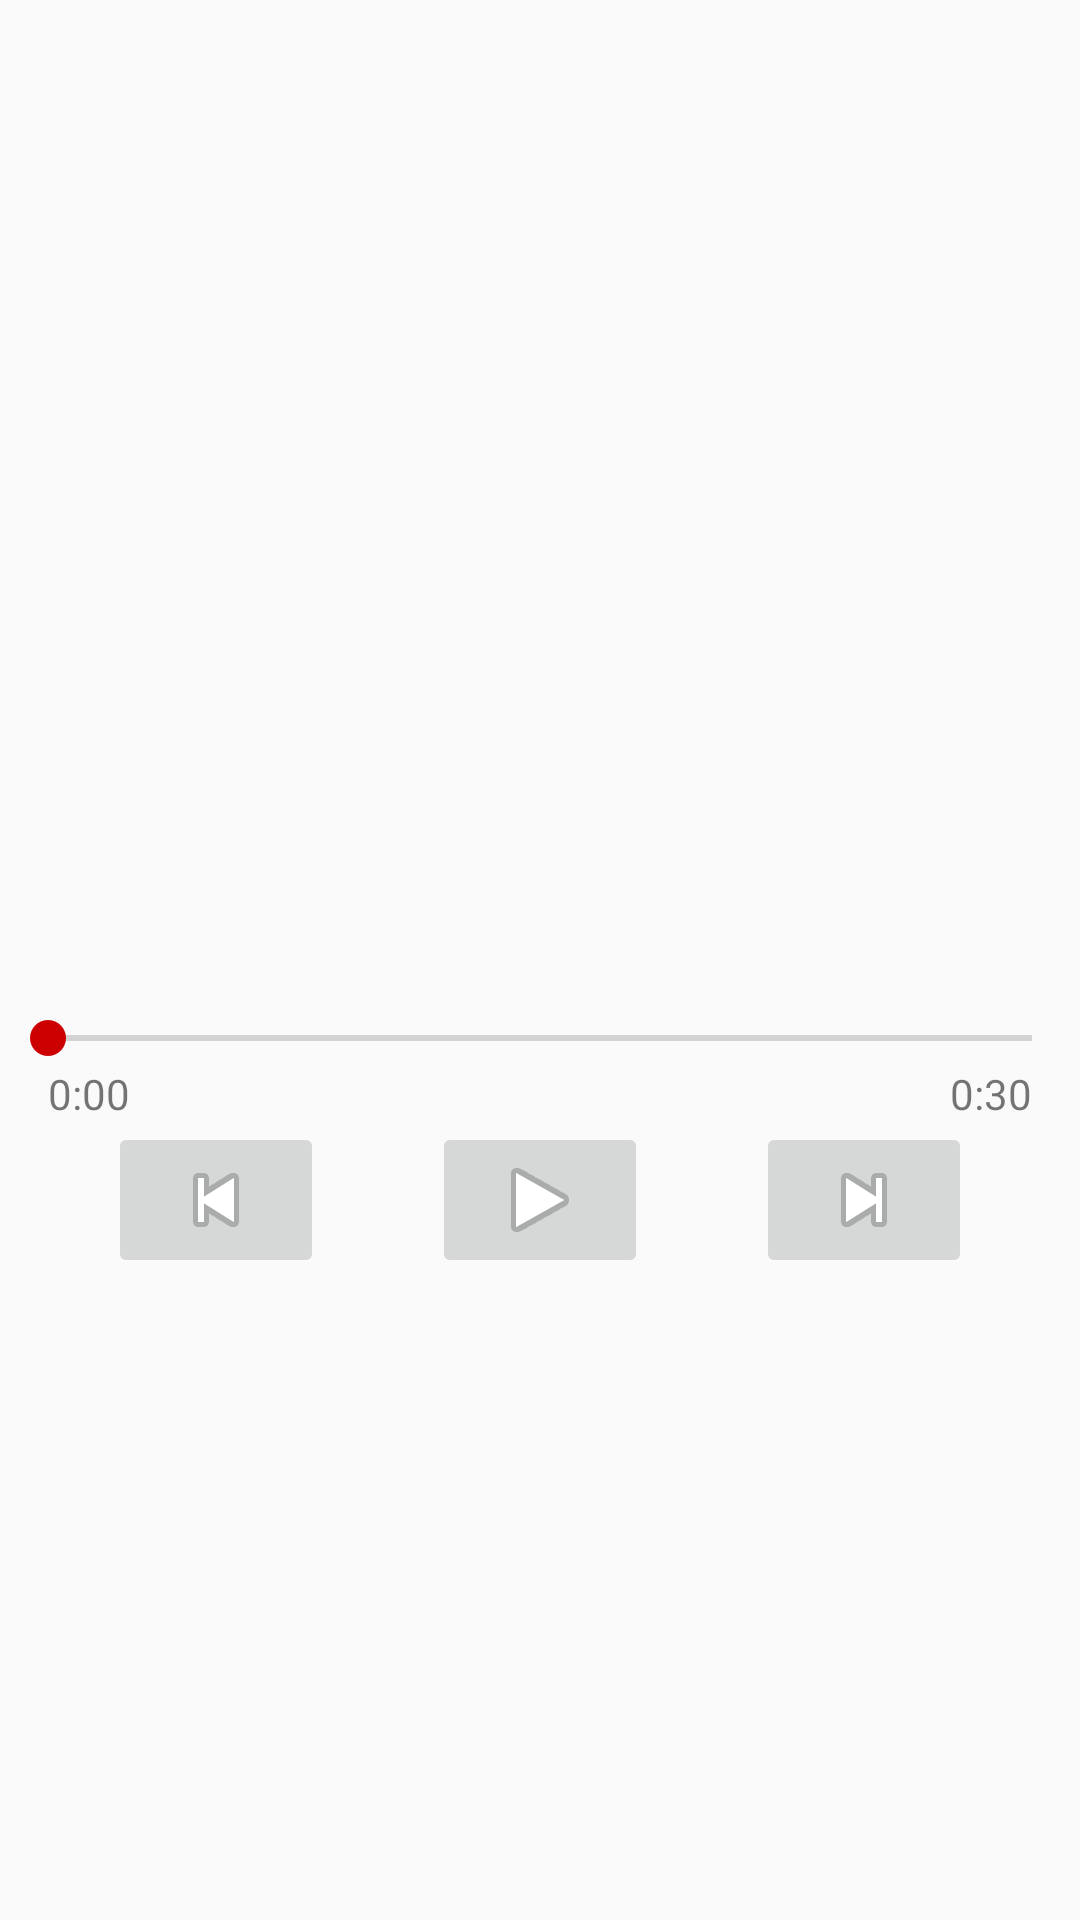

Screen size 1080 × 1920. Icon name, then its box in pixels as box=[x1, y1, x2, y2]:
next: box=[768, 1140, 960, 1260]
play: box=[444, 1140, 636, 1260]
previous: box=[120, 1140, 312, 1260]
